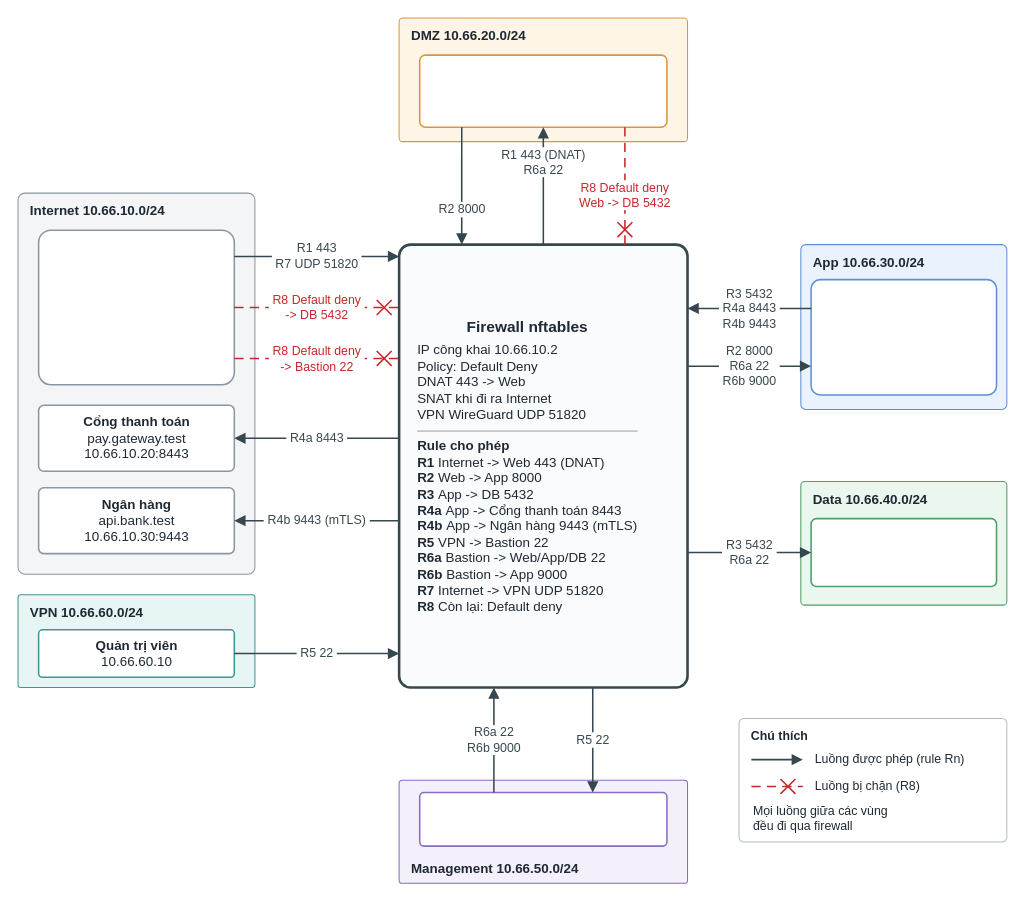
This 1025x901 diagram has some shape labels left out. Each missing label, with the centre of its shape:
App G-Shop (FastAPI) 10.66.30.10 8000 API 9000 API quản trị: the point at 903,336
Bastion SSH 10.66.50.10:22 chỉ nhận khóa: the point at 542,818
Khách hàng / máy kiểm thử 10.66.10.66: the point at 136,307
PostgreSQL 10.66.40.10:5432: the point at 903,552
Web (Nginx, TLS 1.2/1.3) 10.66.20.10:443: the point at 542,91
